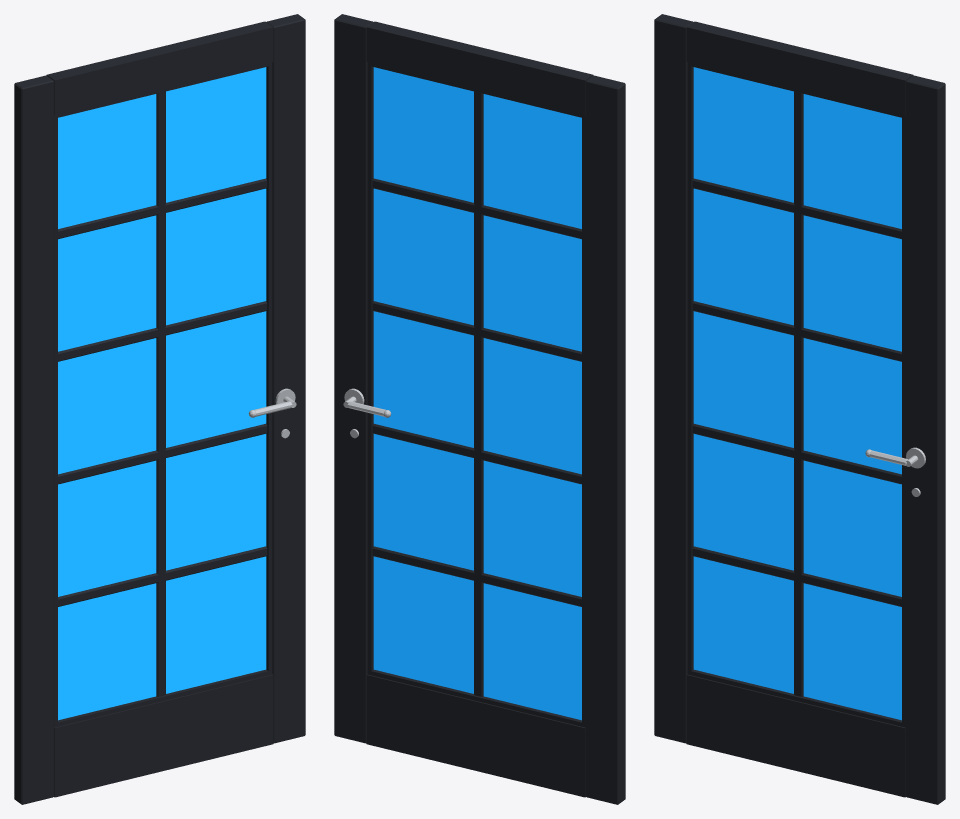
The model's file is porta_vidro_10_preta.glb.
3 views of the same model, side by side, from view 1: azimuth 30°, elevation 25°; view 2: azimuth 150°, elevation 25°; view 3: azimuth 330°, elevation 25° (orthographic).
Visible parts, largest first — view 1: porta_vidro_10_preta; view 2: porta_vidro_10_preta; view 3: porta_vidro_10_preta.
Part boxes in pixels (x1,y1,x2,y2): porta_vidro_10_preta: [14, 14, 305, 804]; porta_vidro_10_preta: [334, 14, 625, 804]; porta_vidro_10_preta: [654, 14, 945, 804].
Size of the model in its own units: 0.86 by 2.07 by 0.143.
